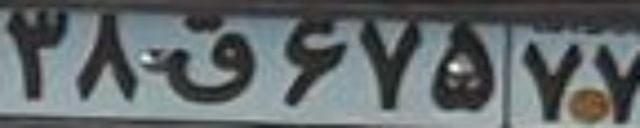3: (5, 9, 69, 101)
5: (430, 21, 496, 109)
6: (278, 17, 344, 104)
7: (354, 15, 427, 111), (519, 42, 585, 118), (593, 42, 639, 123)
8: (70, 13, 137, 102)
ghaf: (156, 12, 254, 104)
